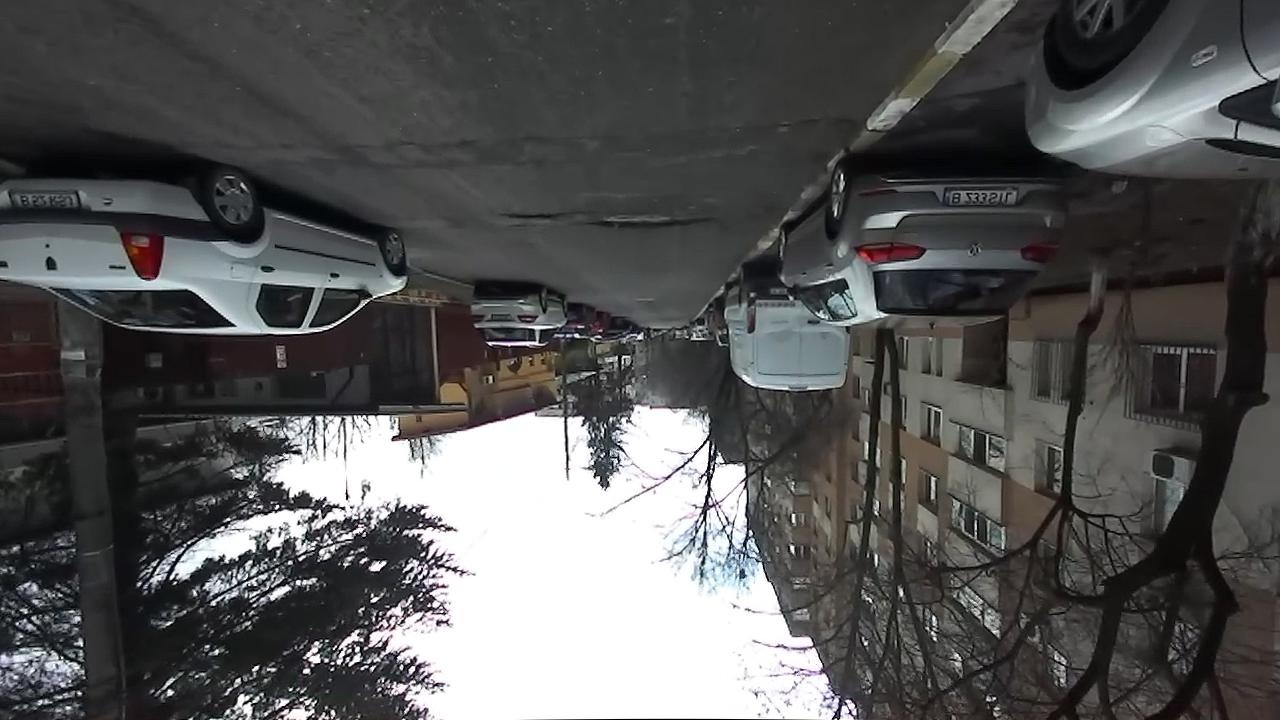pothole: (585, 208, 721, 231), (770, 112, 850, 136), (496, 209, 577, 223)
